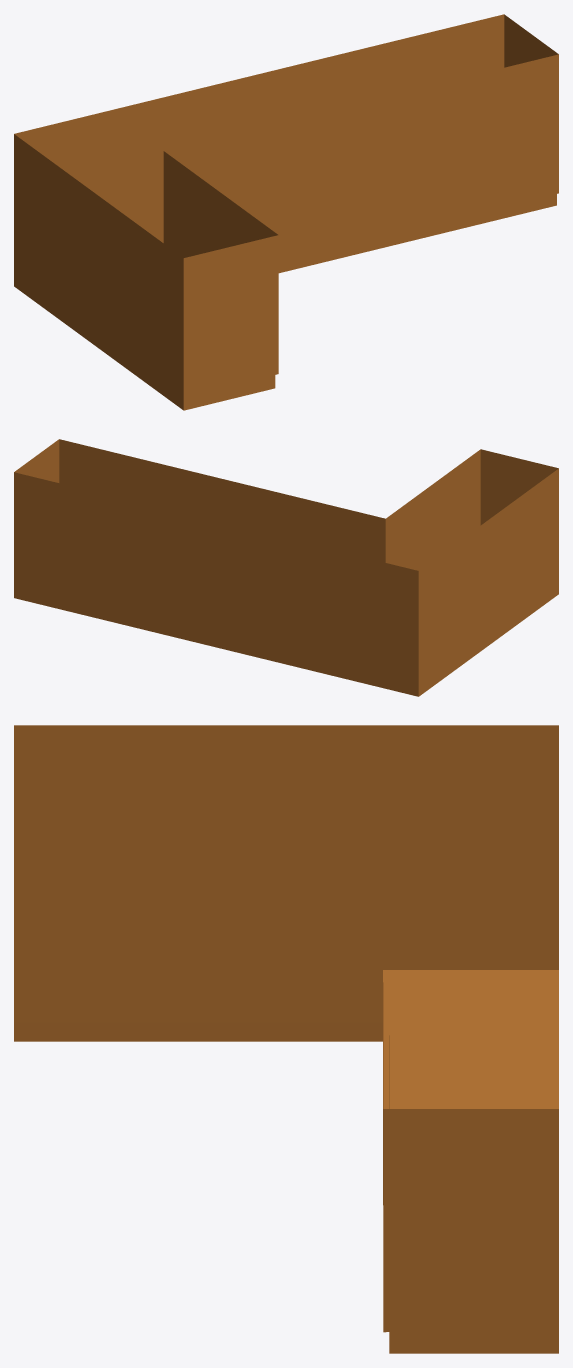
Rendered from Countertop_L_10x6_0.obj.
3 views of the same model, one above another, from view 1: azimuth 30°, elevation 25°; view 2: azimuth 150°, elevation 25°; view 3: azimuth 270°, elevation 25° (orthographic). The views are drawn at different scales.
Size of the model in its own units: 3.05 by 0.906 by 1.83.
